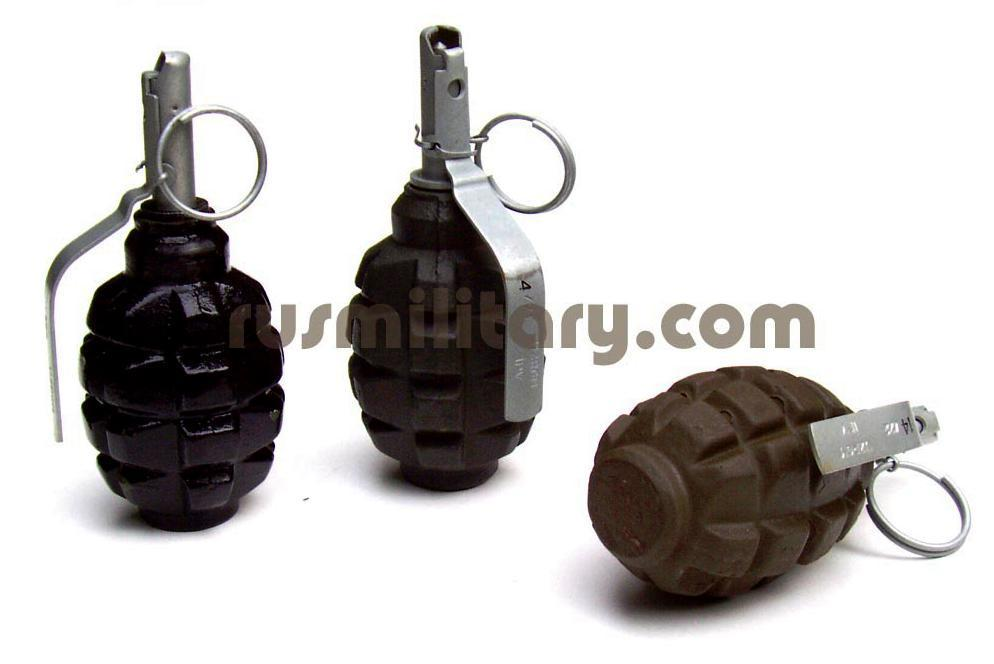Grenade: (43, 52, 286, 534), (346, 26, 577, 493), (586, 367, 971, 606)
